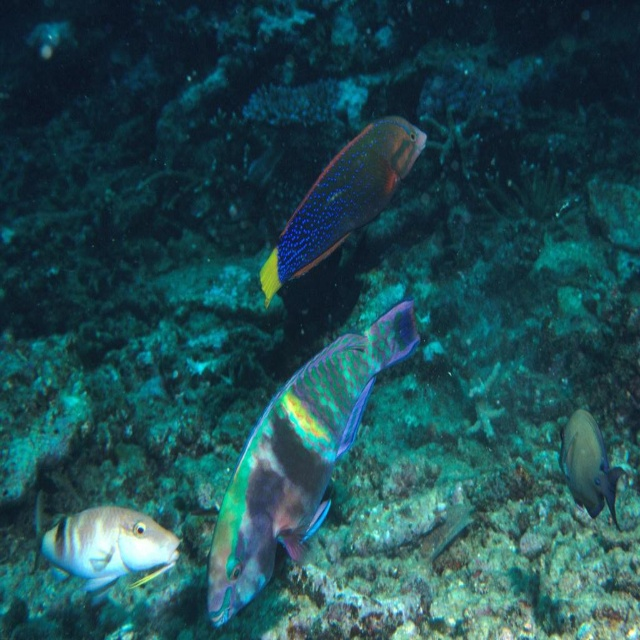Fish: (204, 297, 419, 626), (256, 114, 424, 312), (32, 499, 179, 595), (558, 409, 623, 534)
